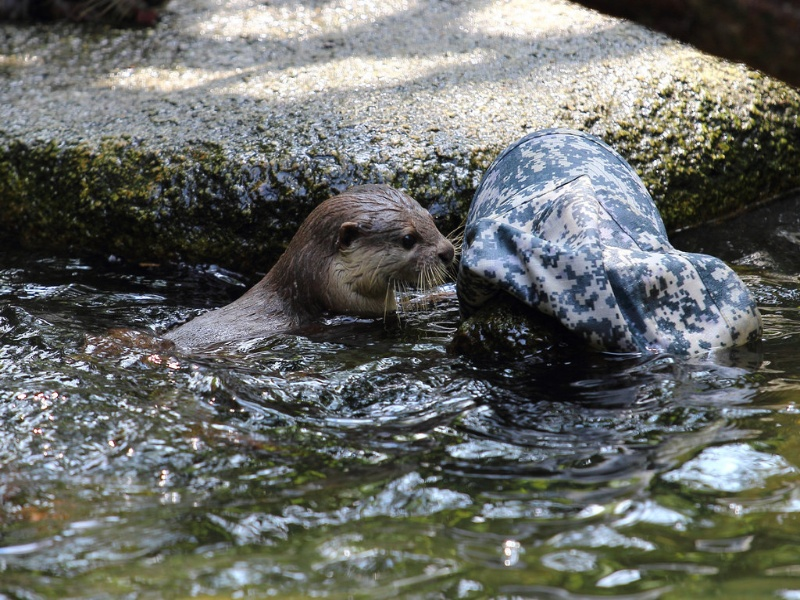minkish: (112, 177, 462, 387)
